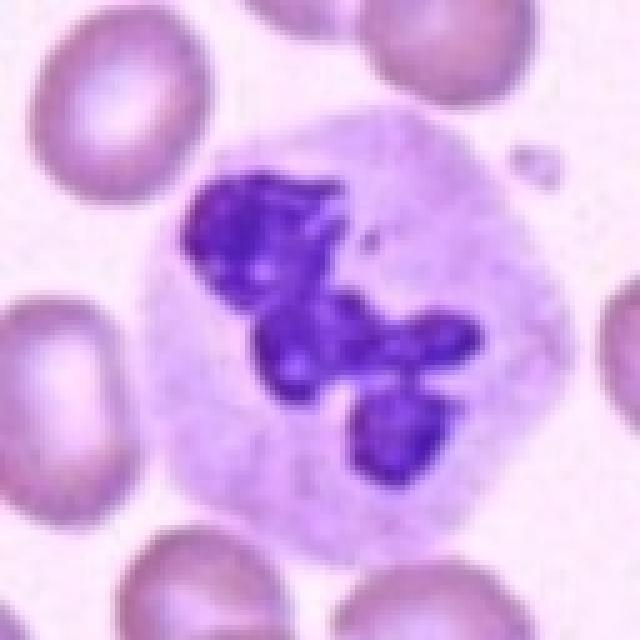neutro: (94, 155, 538, 506)
